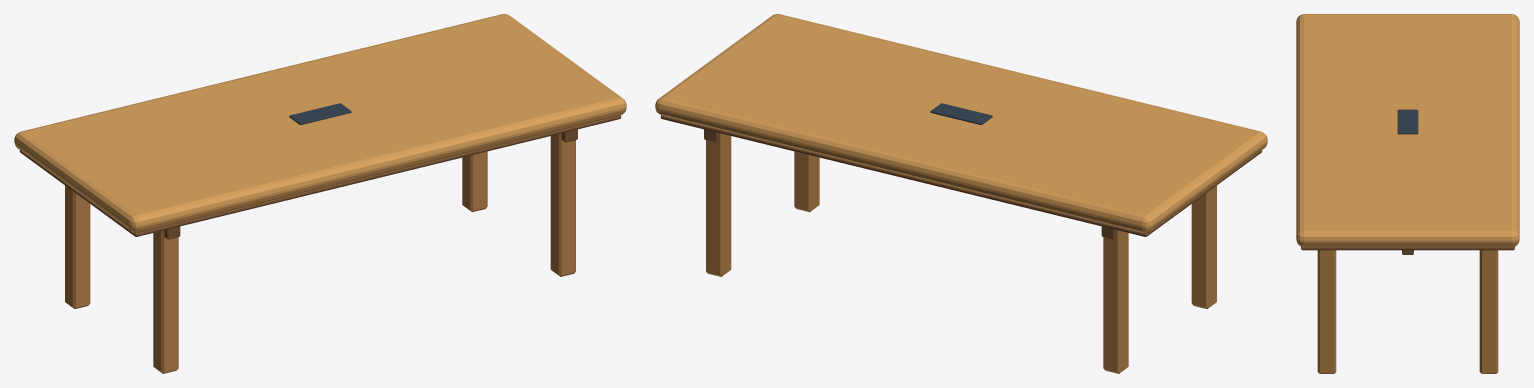
Rendered from table_meeting.glb.
The picture shows the model from 3 angles, left to right: view 1: azimuth 30°, elevation 25°; view 2: azimuth 150°, elevation 25°; view 3: azimuth 270°, elevation 25°; orthographic projection. The views are drawn at different scales.
Parts seen in each view (by area): view 1: table_meeting__oak_top, table_meeting__oak, table_meeting__oak_dark, table_meeting__metal; view 2: table_meeting__oak_top, table_meeting__oak, table_meeting__oak_dark, table_meeting__metal; view 3: table_meeting__oak_top, table_meeting__oak, table_meeting__oak_dark, table_meeting__metal.
Boxes of the visible parts, x1,y1,x2,y2 form: table_meeting__oak_top: [14, 14, 626, 232]; table_meeting__oak: [65, 133, 575, 373]; table_meeting__oak_dark: [19, 115, 621, 239]; table_meeting__metal: [289, 103, 351, 124]; table_meeting__oak_top: [655, 14, 1267, 232]; table_meeting__oak: [706, 133, 1216, 373]; table_meeting__oak_dark: [660, 115, 1262, 239]; table_meeting__metal: [930, 103, 992, 124]; table_meeting__oak_top: [1296, 14, 1519, 247]; table_meeting__oak: [1317, 250, 1498, 373]; table_meeting__oak_dark: [1301, 246, 1514, 254]; table_meeting__metal: [1397, 109, 1418, 134].
Size of the model in its own units: 2.4 by 0.81 by 1.02.
